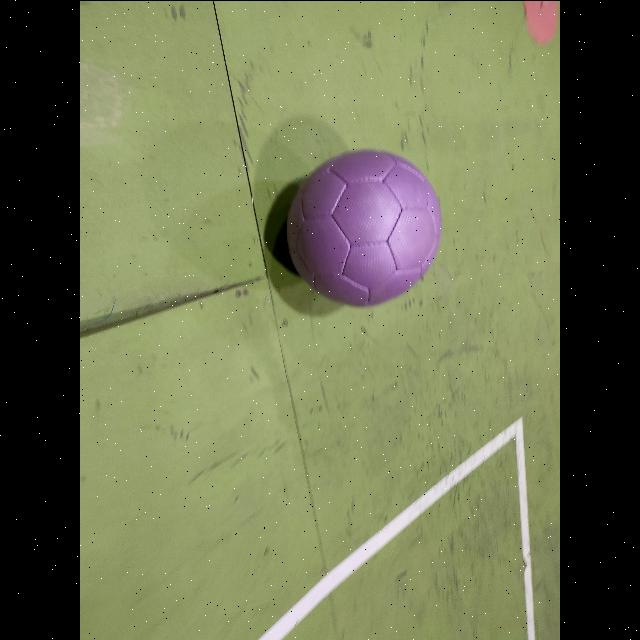P: (288, 150, 442, 306)
R: (524, 1, 558, 44)
